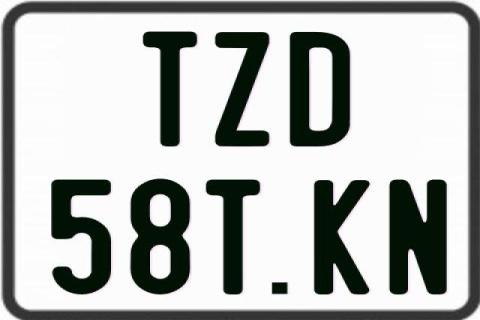0: (128, 178, 193, 298), (49, 180, 114, 297)
D: (287, 31, 347, 149)
K: (311, 180, 369, 296)
N: (386, 179, 450, 299)
T: (204, 178, 260, 298), (142, 32, 198, 150)
Z: (214, 32, 269, 146)
